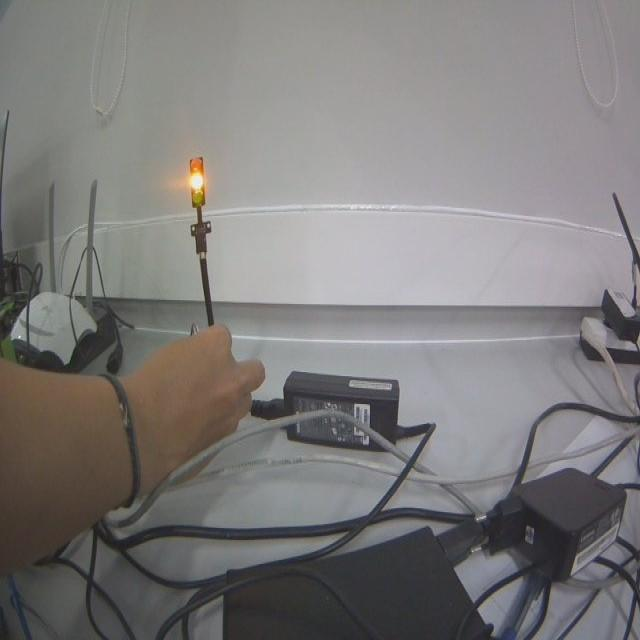Lampu Kuning: (189, 156, 205, 208)
